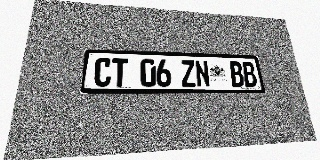0: (140, 59, 156, 87)
6: (156, 59, 172, 87)
B: (241, 62, 258, 87), (229, 61, 245, 87)
C: (94, 57, 112, 87)
N: (194, 60, 211, 87)
T: (111, 58, 128, 87)
Z: (180, 60, 196, 87)
